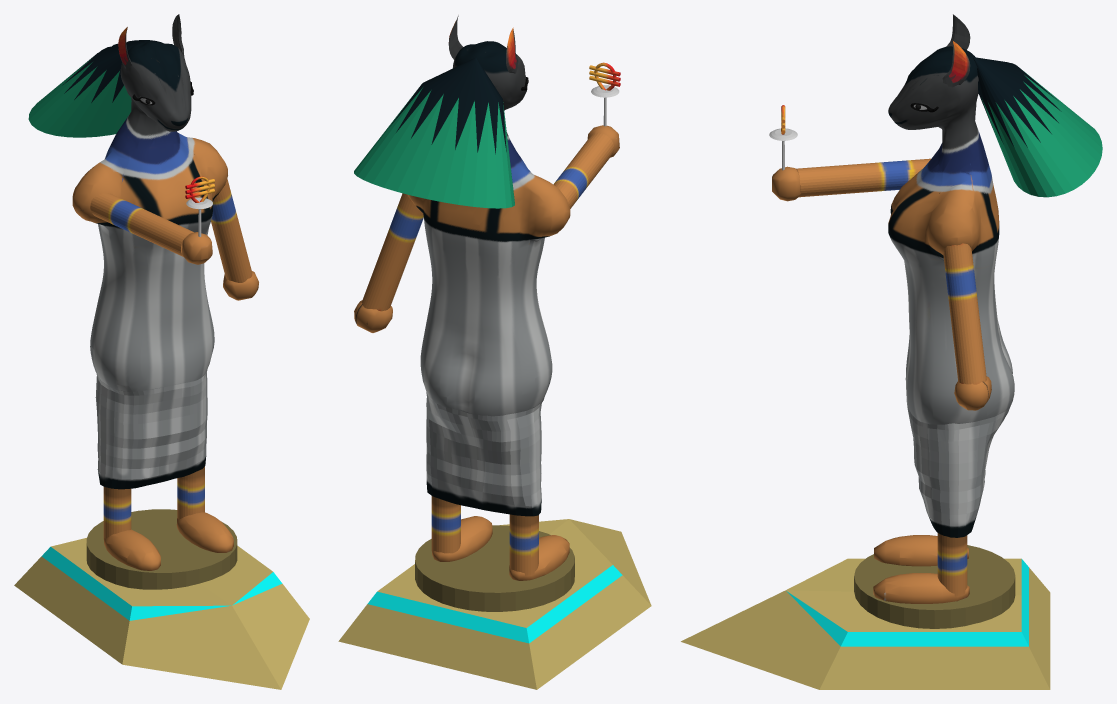
Rendered from Bastet AI.fbx.
3 renders of one model, left to right at view 1: azimuth 30°, elevation 25°; view 2: azimuth 150°, elevation 25°; view 3: azimuth 270°, elevation 25°, orthographic. The views are drawn at different scales.
Visible parts, largest first — view 1: Cylinder.008, Kubus, Cylinder, Kegel.001, Cylinder.003, Cylinder.004, Cylinder.001, Cylinder.002, Cylinder.009, Cube; view 2: Cylinder.008, Kubus, Kegel.001, Cylinder, Cylinder.004, Cylinder.003, Cylinder.001, Cylinder.002, Cylinder.009, Cube; view 3: Cylinder.008, Kubus, Kegel.001, Cylinder, Cylinder.004, Cylinder.003, Cylinder.002, Cube.
Boxes of the visible parts, bbox=[...] form: Cylinder.008: bbox=[72, 41, 258, 570]; Kubus: bbox=[14, 538, 309, 689]; Cylinder: bbox=[86, 509, 237, 589]; Kegel.001: bbox=[28, 40, 163, 137]; Cylinder.003: bbox=[90, 193, 193, 256]; Cylinder.004: bbox=[211, 178, 252, 282]; Cylinder.001: bbox=[103, 487, 131, 539]; Cylinder.002: bbox=[177, 466, 204, 519]; Cylinder.009: bbox=[185, 176, 214, 236]; Cube: bbox=[118, 14, 184, 71]; Cylinder.008: bbox=[354, 41, 619, 580]; Kubus: bbox=[338, 519, 651, 689]; Kegel.001: bbox=[354, 57, 514, 208]; Cylinder: bbox=[415, 525, 574, 611]; Cylinder.004: bbox=[361, 193, 423, 311]; Cylinder.003: bbox=[553, 133, 614, 208]; Cylinder.001: bbox=[509, 514, 538, 575]; Cylinder.002: bbox=[431, 496, 460, 553]; Cylinder.009: bbox=[589, 62, 620, 126]; Cube: bbox=[448, 15, 518, 73]; Cylinder.008: bbox=[772, 46, 1014, 603]; Kubus: bbox=[681, 558, 1050, 689]; Kegel.001: bbox=[973, 57, 1102, 197]; Cylinder: bbox=[854, 545, 1015, 628]; Cylinder.004: bbox=[943, 243, 986, 384]; Cylinder.003: bbox=[796, 158, 930, 197]; Cylinder.002: bbox=[937, 533, 967, 596]; Cube: bbox=[942, 14, 970, 87].
Bounding box in the file's own units: 440 × 1174 × 732.
